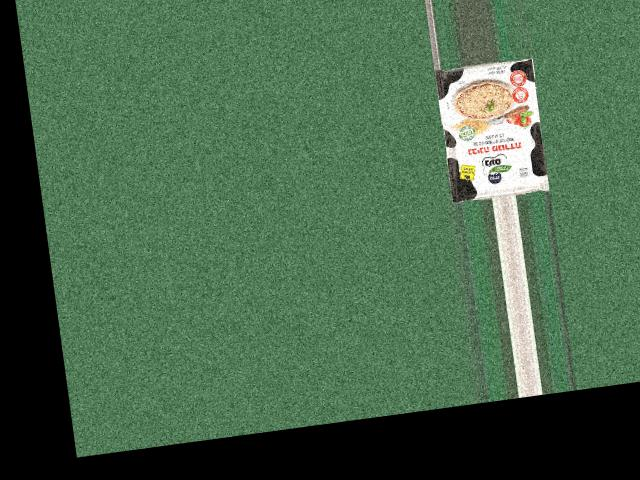cheese: (433, 61, 565, 194)
